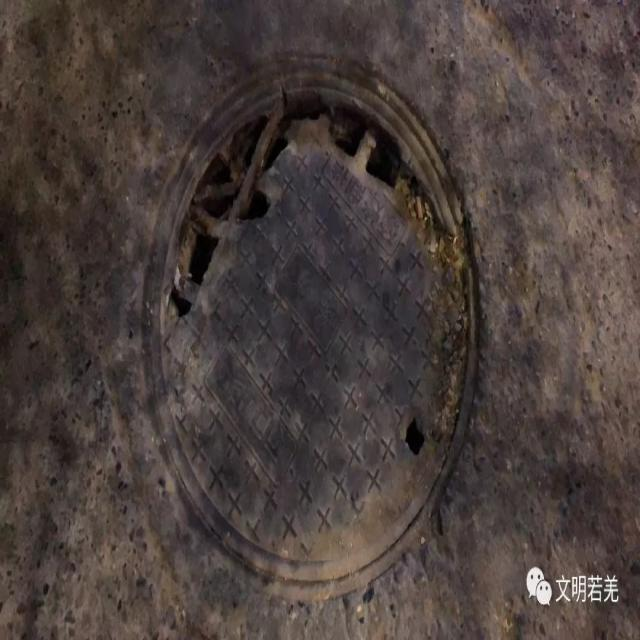manhole: (146, 62, 474, 598)
